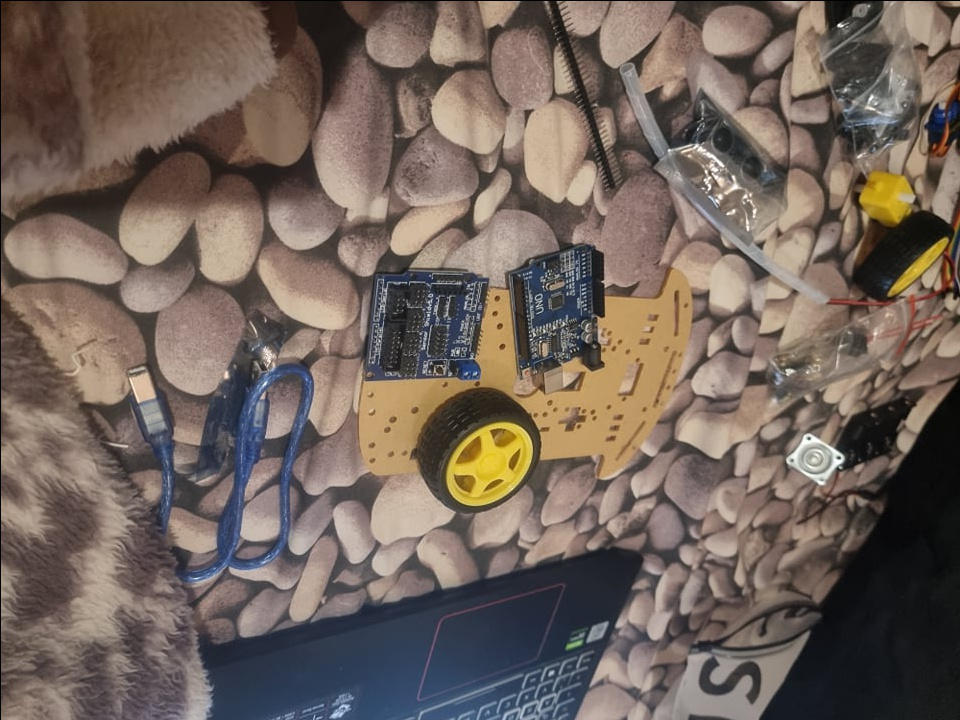5V EXPANSION: (361, 268, 487, 382)
BATTERY BOX: (835, 401, 921, 469)
SENSOR: (696, 111, 765, 188)
UNO R3: (505, 251, 607, 391)
